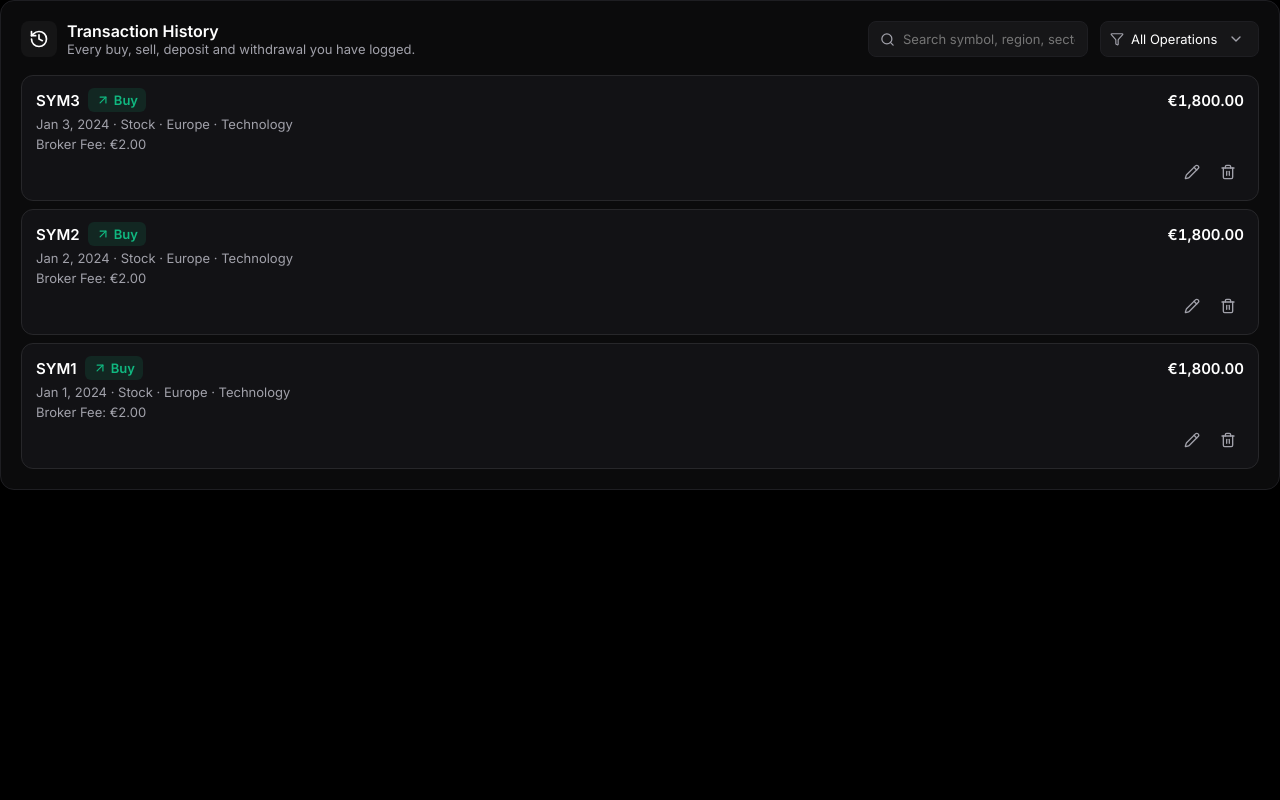
Test: removing a transaction › keeps everything when the person cancels, and gives the focus back to the button
What coordinates should you click on to do the following:
click the button named "Delete Buy SYM3, Jan 3, 2024"
I would click on:
 (1228, 172)
Its box is top-left (1212, 156), bottom-right (1244, 188).
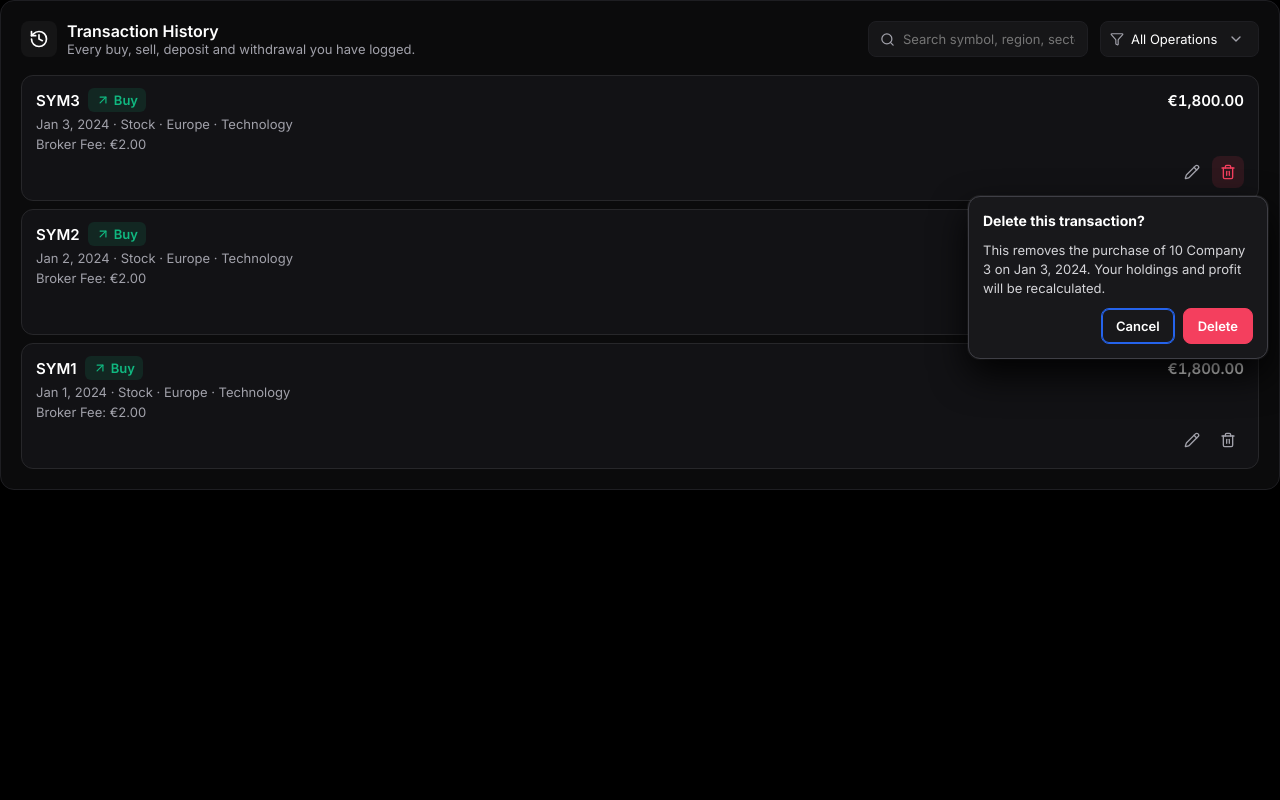
What coordinates should you click on to do the following:
click the button "Cancel"
I would click on:
 (1138, 326)
Its box is top-left (1101, 308), bottom-right (1175, 344).
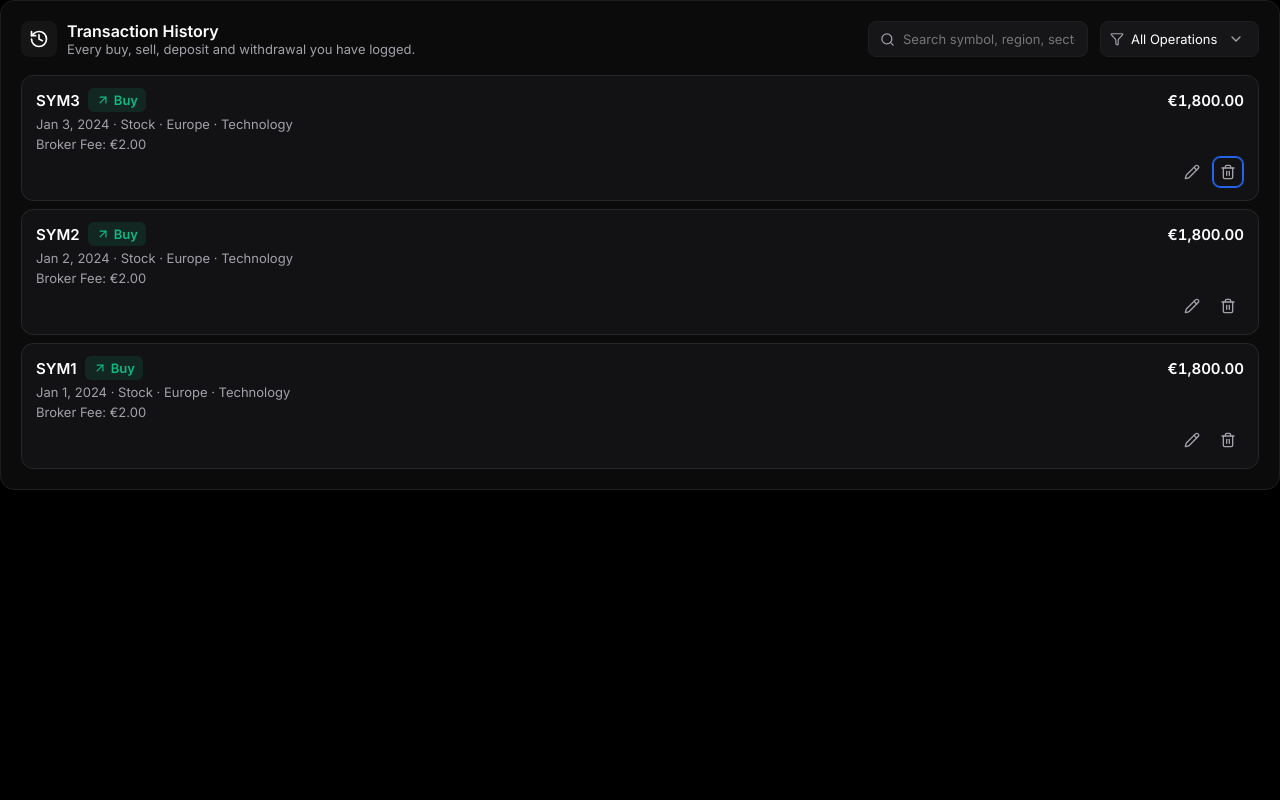
Now the dialog is gone
